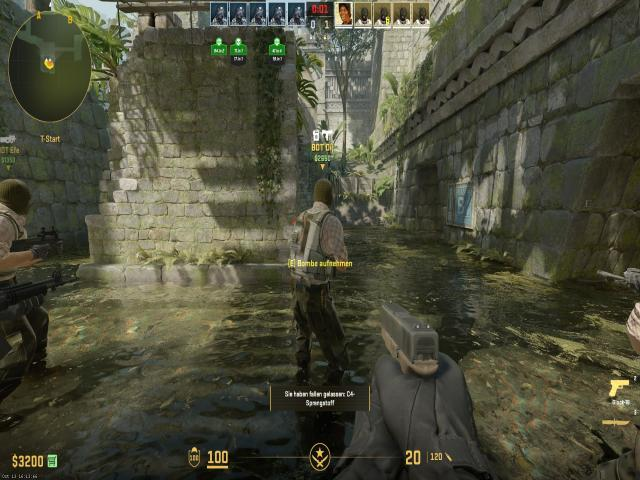Bomb: (288, 217, 312, 260)
T: (287, 177, 353, 375), (0, 176, 48, 384)
T-Head: (0, 176, 35, 220), (309, 177, 337, 210)
